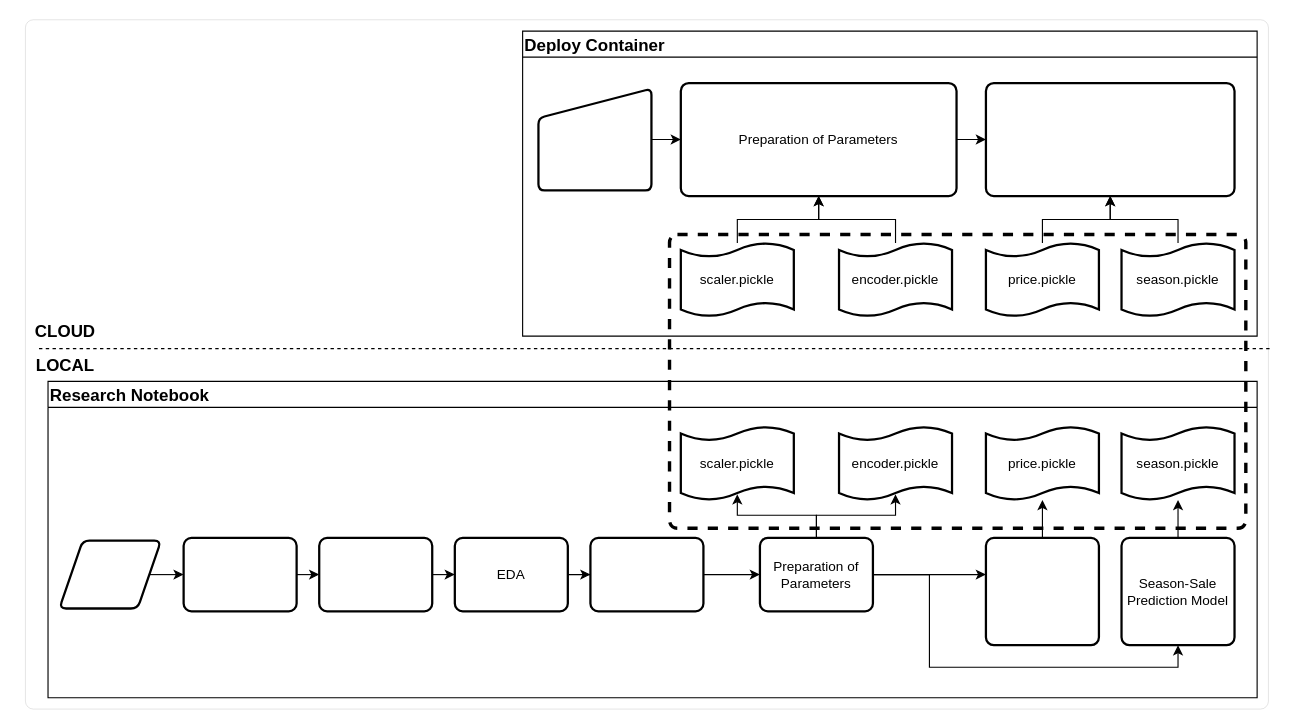
The diagram is 1292 pixels wide and 728 high, and some of its shapes have lost their labels. The centre of each missing label's shape, as x and y in pixels:
"Data" belongs at point 110,574.
"ETL" belongs at point 239,574.
"Feature Engineering" belongs at point 375,574.
"Feature Selection" belongs at point 646,574.
"Price & Sale-Season Prediction" belongs at point 1109,139.
"Price Prediction Model" belongs at point 1041,591.
"Property Parameters" belongs at point 594,139.
